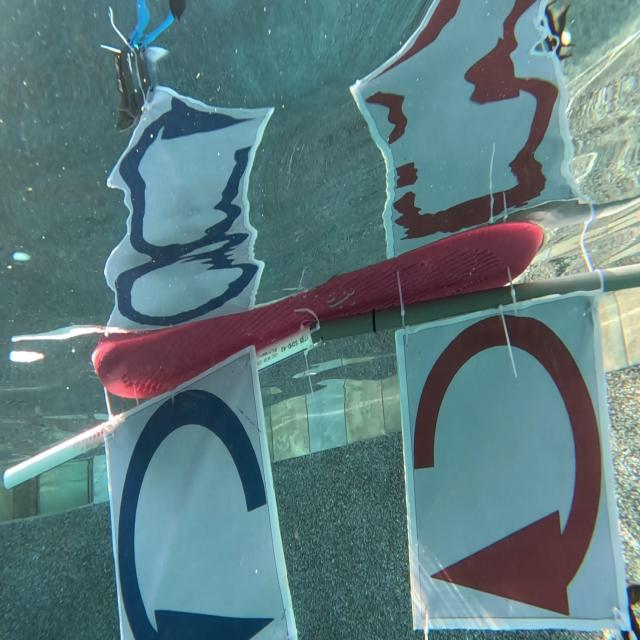blue_side: (109, 369, 273, 640)
red_side: (410, 313, 604, 637)
